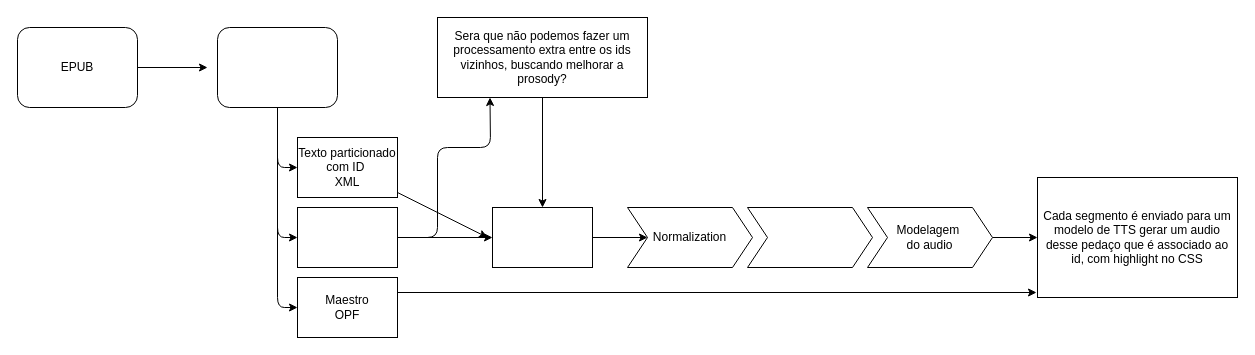
The diagram is 1255 pixels wide and 355 high, and some of its shapes have lost their labels. Each missing label, with the box of its shape:
Blocks: (492, 206, 592, 268)
EPUB 3: (216, 26, 338, 108)
intervalo de audio associado ao ID SMIL: (296, 206, 398, 268)
Segmentação: (746, 206, 872, 268)
